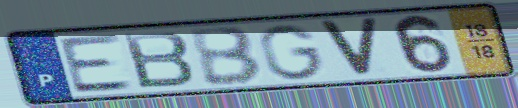6: (390, 13, 455, 76)
B: (185, 24, 266, 88), (119, 29, 198, 91)
E: (56, 32, 138, 95)
G: (256, 23, 328, 82)
V: (315, 17, 382, 79)
